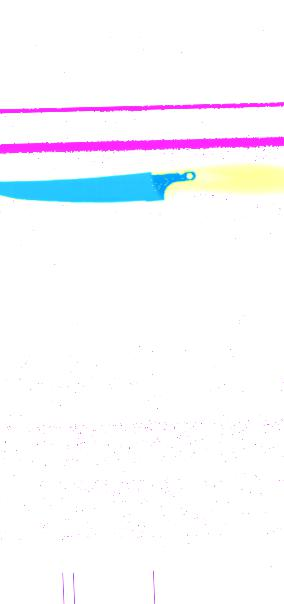Knife: (1, 164, 282, 204)
